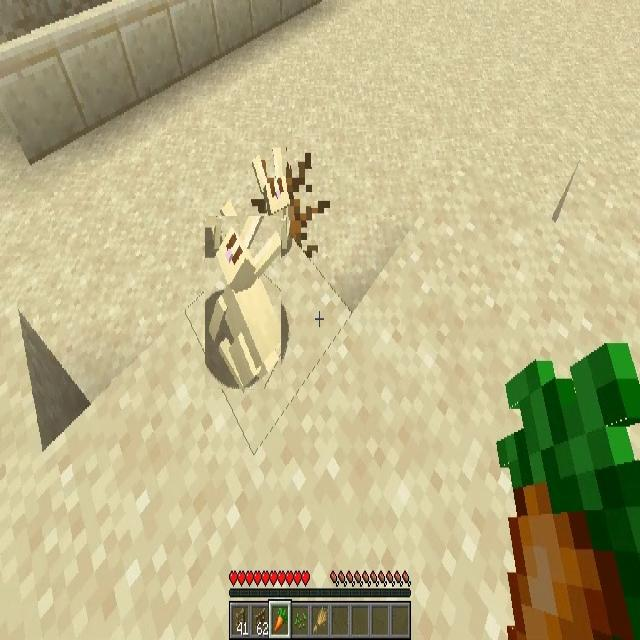rabbit: (205, 216, 281, 389), (254, 153, 291, 246)
